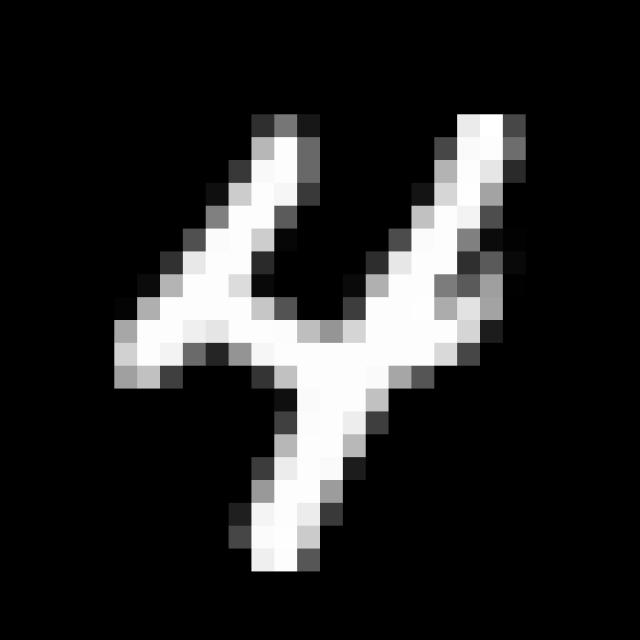four -4-: (91, 100, 536, 602)
